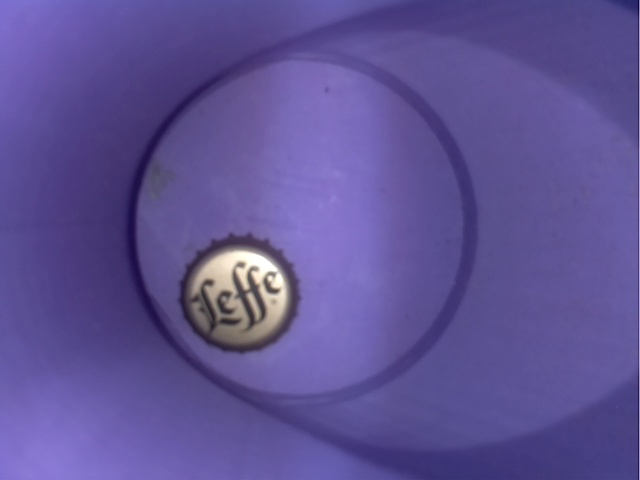capsule: (171, 230, 305, 359)
